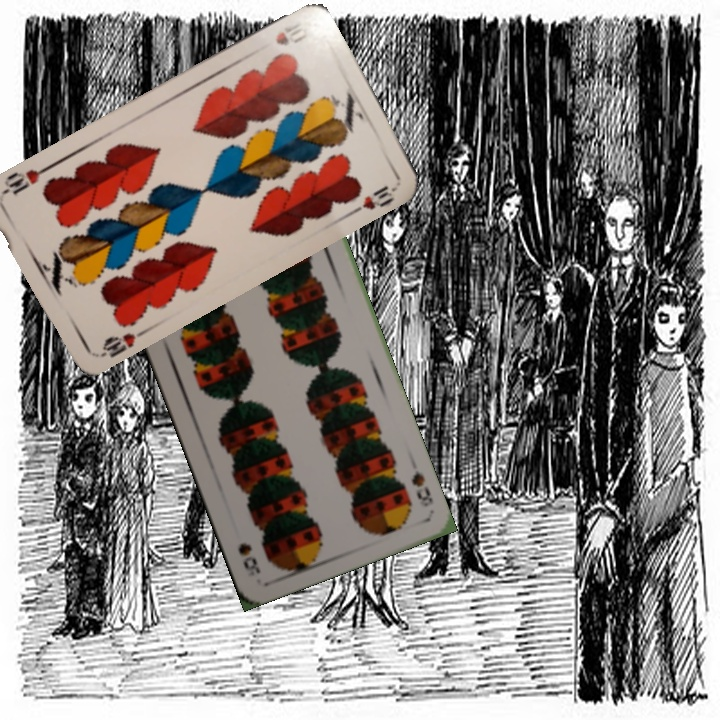H10: (96, 325, 149, 360), (271, 19, 313, 49)
S8: (407, 466, 436, 510)
